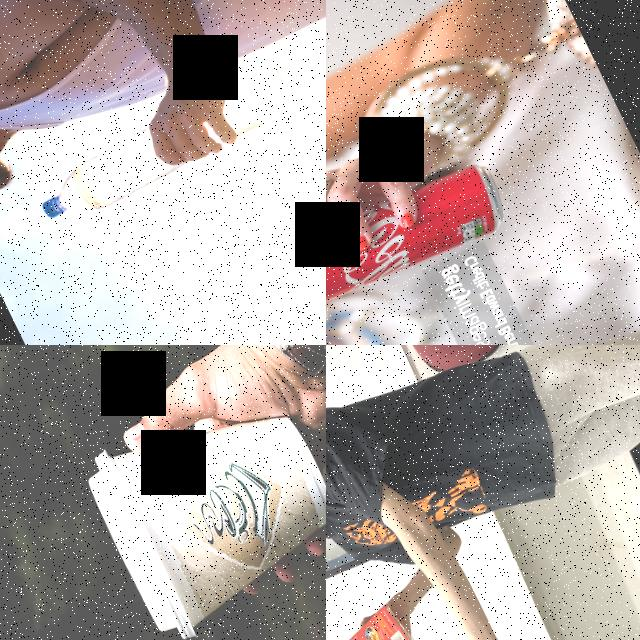bottle: (24, 52, 308, 233)
can: (326, 143, 515, 343)
cup: (73, 366, 326, 640)
